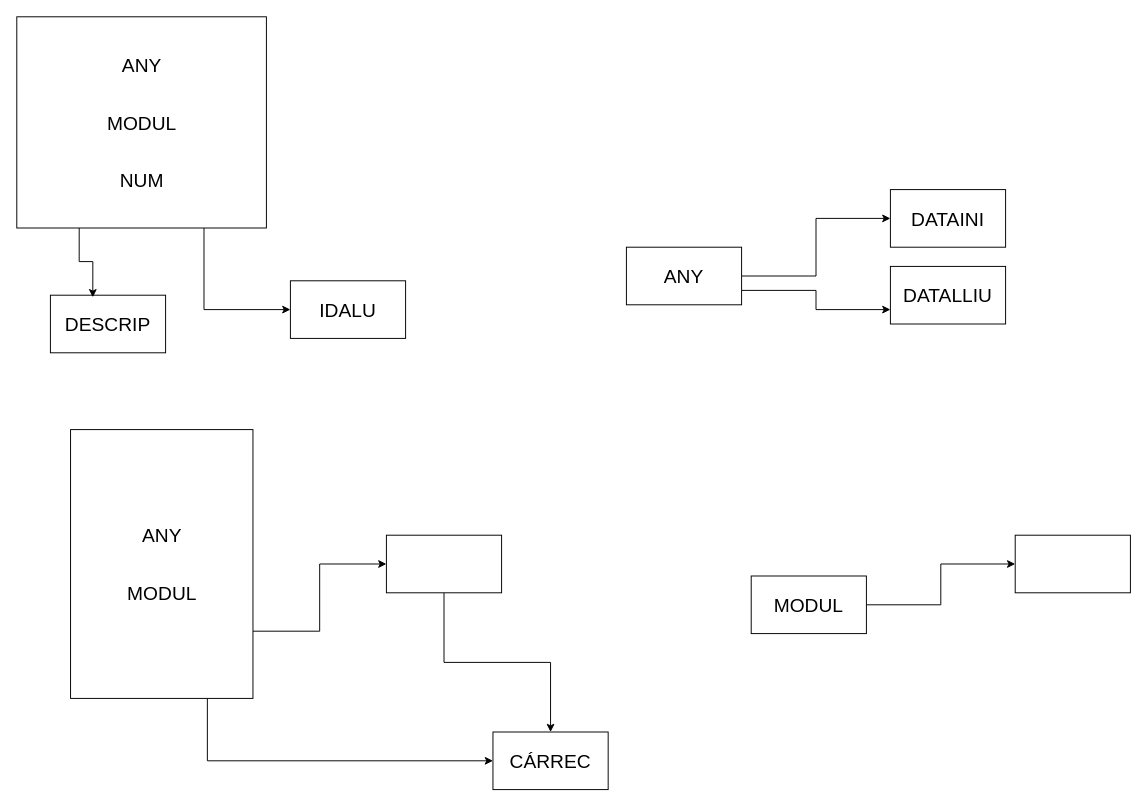
Image size: 1147x806. Some labels were removed from this diagram. The centre of each missing label's shape, as x and y in pixels:
IDPRO: point 443,563
NOMMODUL: point 1072,563
